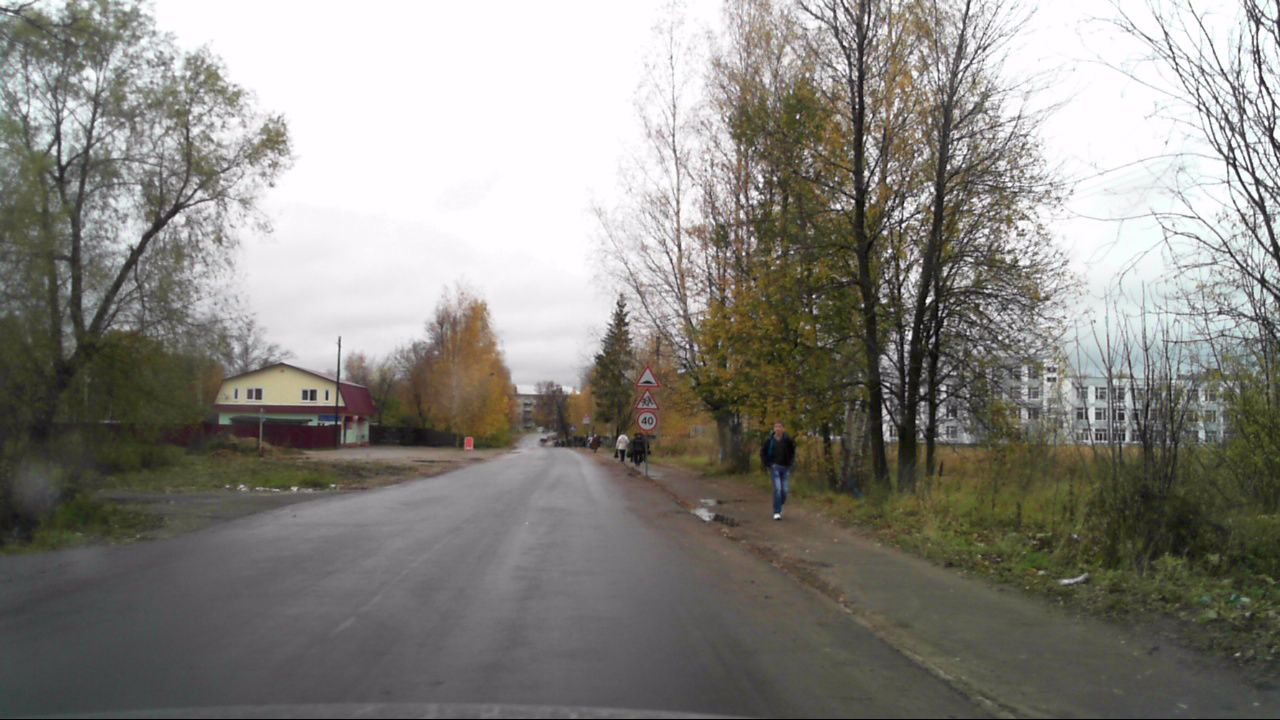speed_warning_40: (635, 411, 658, 431)
